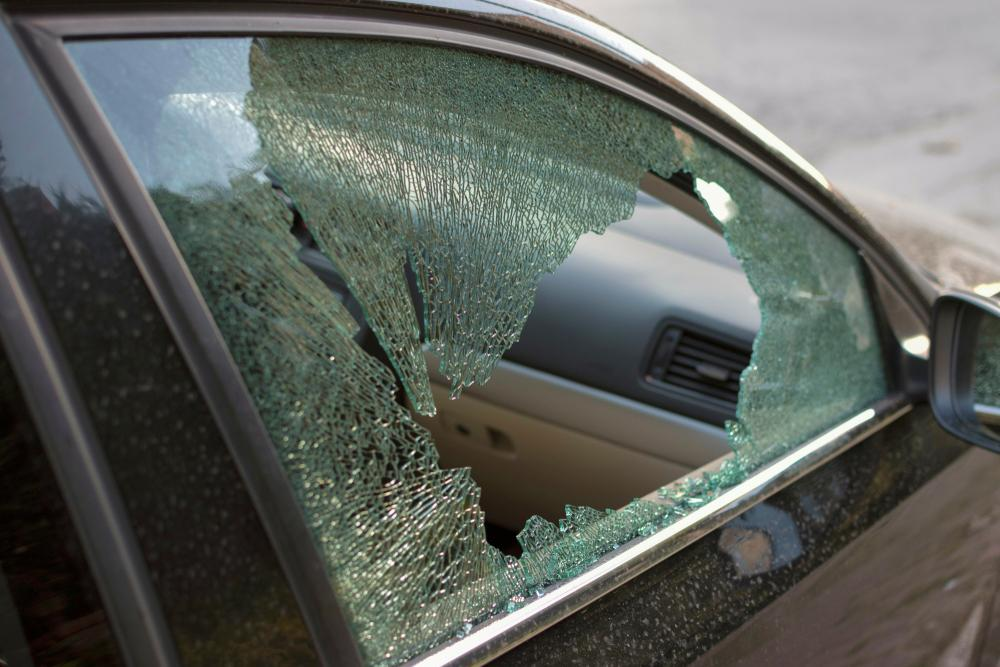glass shatter: (60, 35, 890, 667)
